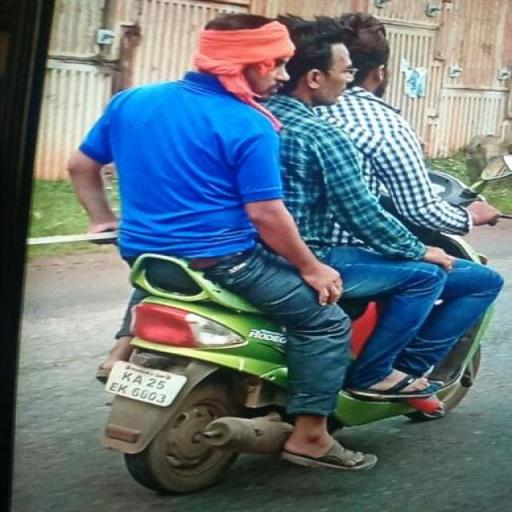using mobile: (60, 8, 510, 286)
